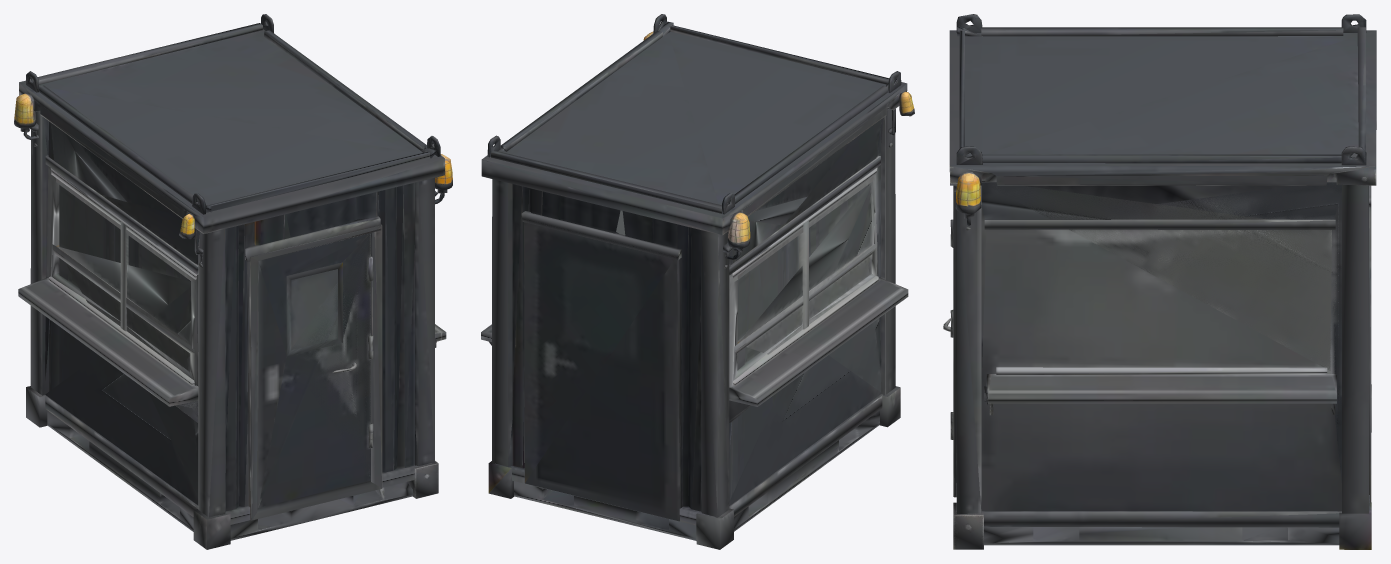
Rendered from guard_booth_gate.glb.
3 renders of one model, left to right at view 1: azimuth 30°, elevation 25°; view 2: azimuth 150°, elevation 25°; view 3: azimuth 270°, elevation 25°, orthographic. The views are drawn at different scales.
Parts seen in each view (by area): view 1: Meshy_AI_guard_booth_gate_3d_20261028_texture; view 2: Meshy_AI_guard_booth_gate_3d_20261028_texture; view 3: Meshy_AI_guard_booth_gate_3d_20261028_texture.
Boxes of the visible parts, x1,y1,x2,y2 form: Meshy_AI_guard_booth_gate_3d_20261028_texture: (14, 14, 452, 549); Meshy_AI_guard_booth_gate_3d_20261028_texture: (481, 14, 914, 549); Meshy_AI_guard_booth_gate_3d_20261028_texture: (943, 14, 1376, 549).
Size of the model in its own units: 2.48 by 3 by 2.91.
Materials: 1 (1 with a texture image).
